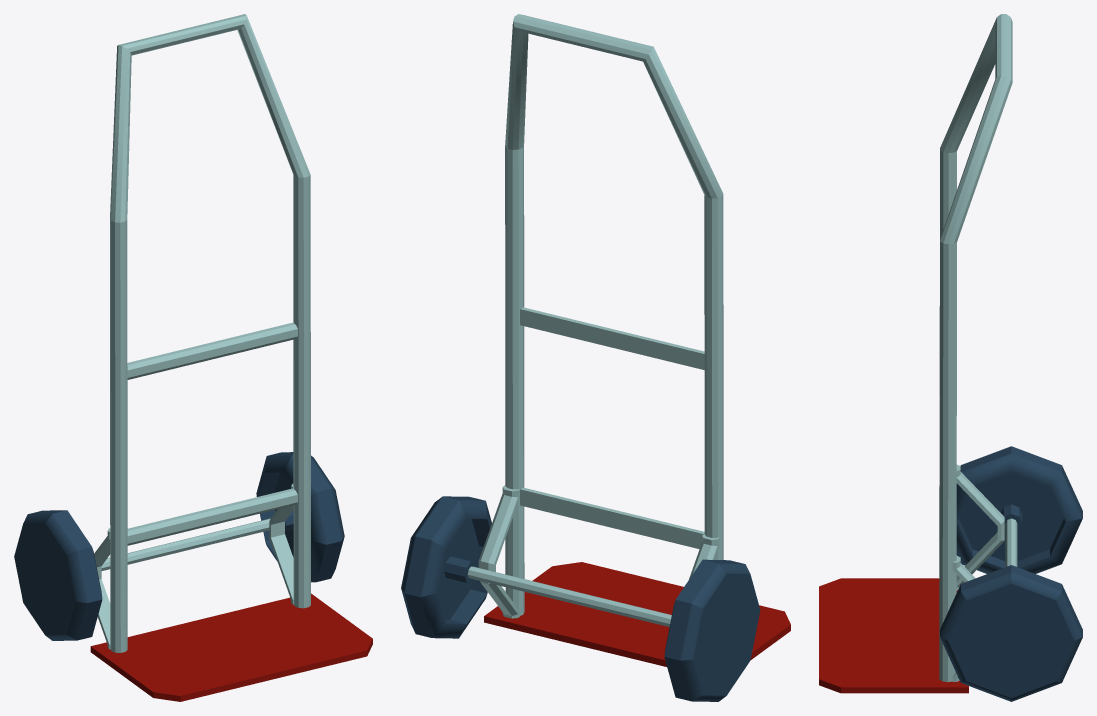
File: Prop_Dolly.fbx
3 views of the same model, side by side, from view 1: azimuth 30°, elevation 25°; view 2: azimuth 150°, elevation 25°; view 3: azimuth 270°, elevation 25° (orthographic). The views are drawn at different scales.
Visible parts, largest first — view 1: Prop_Dolly; view 2: Prop_Dolly; view 3: Prop_Dolly.
Part boxes in pixels (x1,y1,x2,y2): Prop_Dolly: (14,14,372,701); Prop_Dolly: (401,14,790,701); Prop_Dolly: (819,14,1082,701).
Bounding box in the file's own units: 47.38 × 56.72 × 118.
